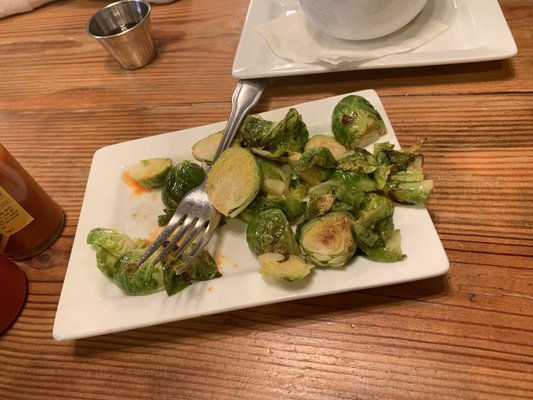curry: (162, 160, 207, 209)
pizza: (298, 0, 432, 42), (87, 0, 157, 71)
salad: (192, 79, 266, 166)
